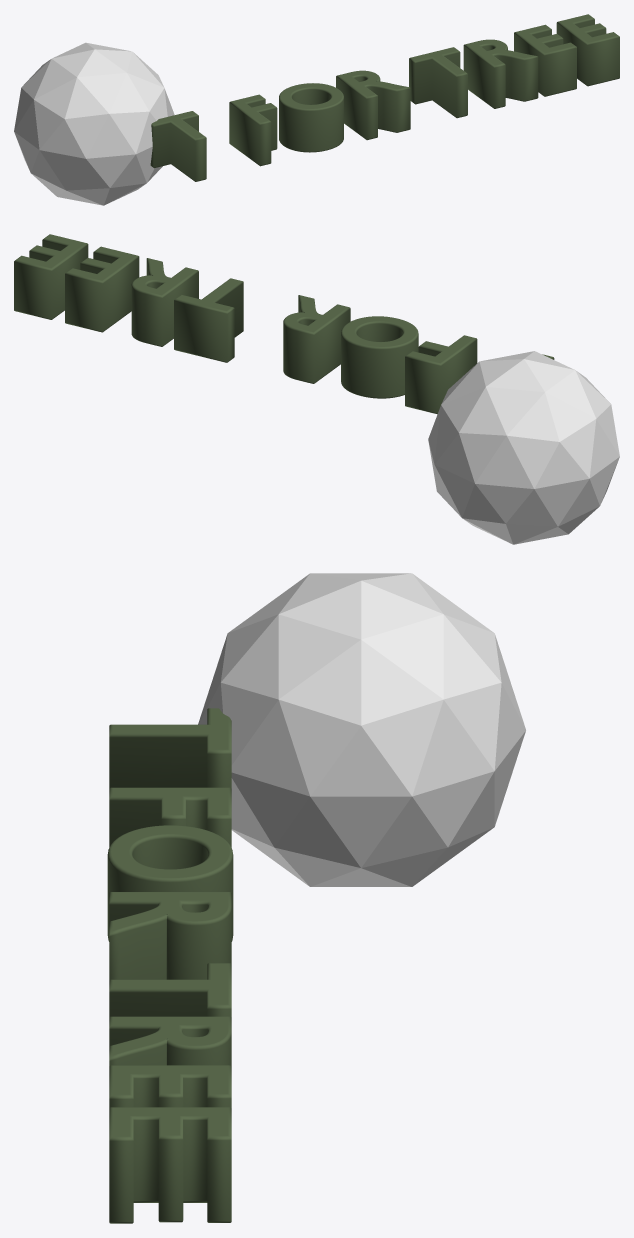
File: TREE TEXT.fbx
3 views of the same model, one above another, from view 1: azimuth 30°, elevation 25°; view 2: azimuth 150°, elevation 25°; view 3: azimuth 270°, elevation 25° (orthographic). The views are drawn at different scales.
Parts seen in each view (by area): view 1: Text.001, Icosphere; view 2: Text.001, Icosphere; view 3: Icosphere, Text.001.
Boxes of the visible parts, x1,y1,x2,y2 form: Text.001: (150,14,619,181); Icosphere: (14,42,174,205); Text.001: (14,234,554,414); Icosphere: (428,351,619,544); Icosphere: (198,573,525,886); Text.001: (107,708,233,1223).
Size of the model in its own units: 742 by 200 by 254.
